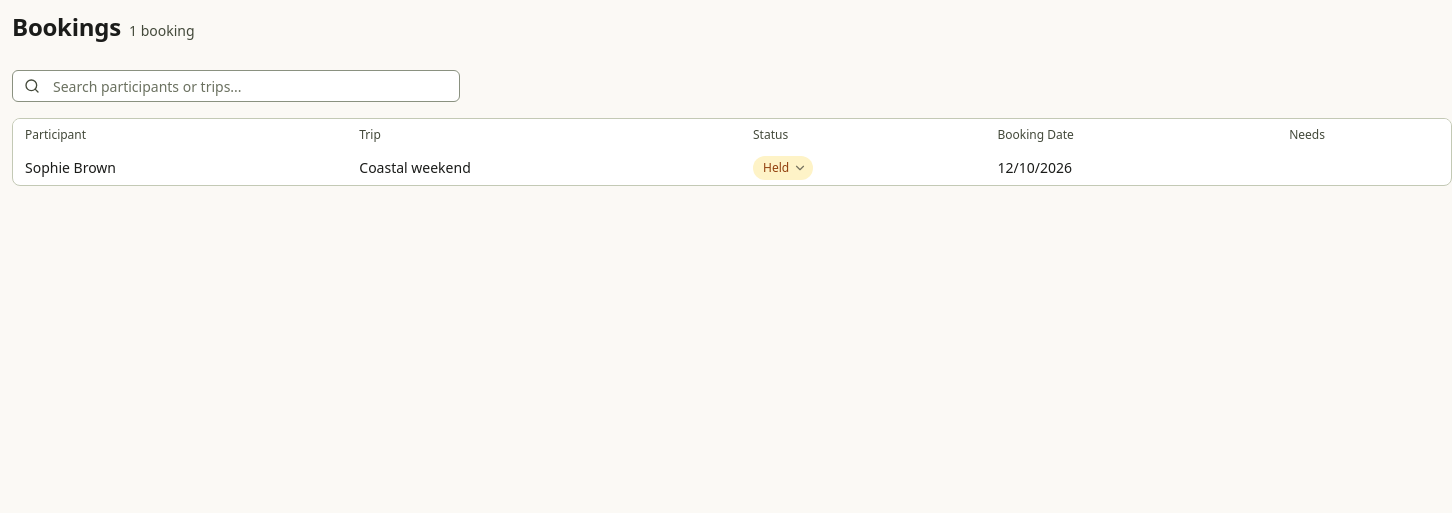
Test: BookingsPage — a refused status change › clears the banner on the next change that succeeds
Click the button "Held" at (783, 168), box [753,156,813,180]
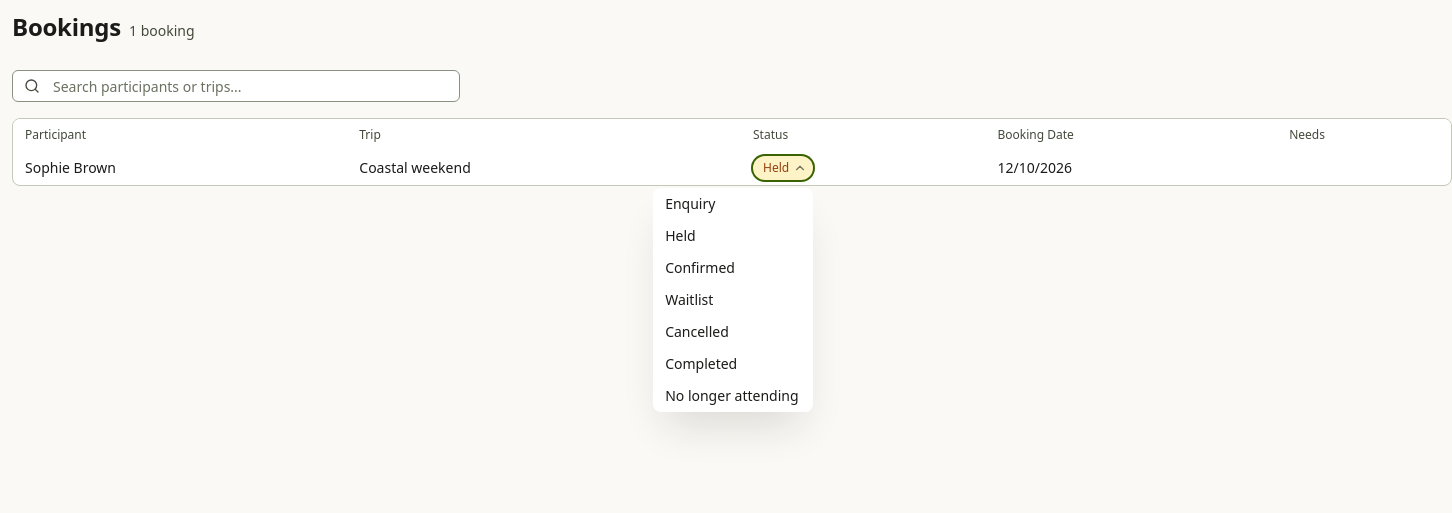
Click the option "Confirmed" at (700, 268), box [665,258,735,277]
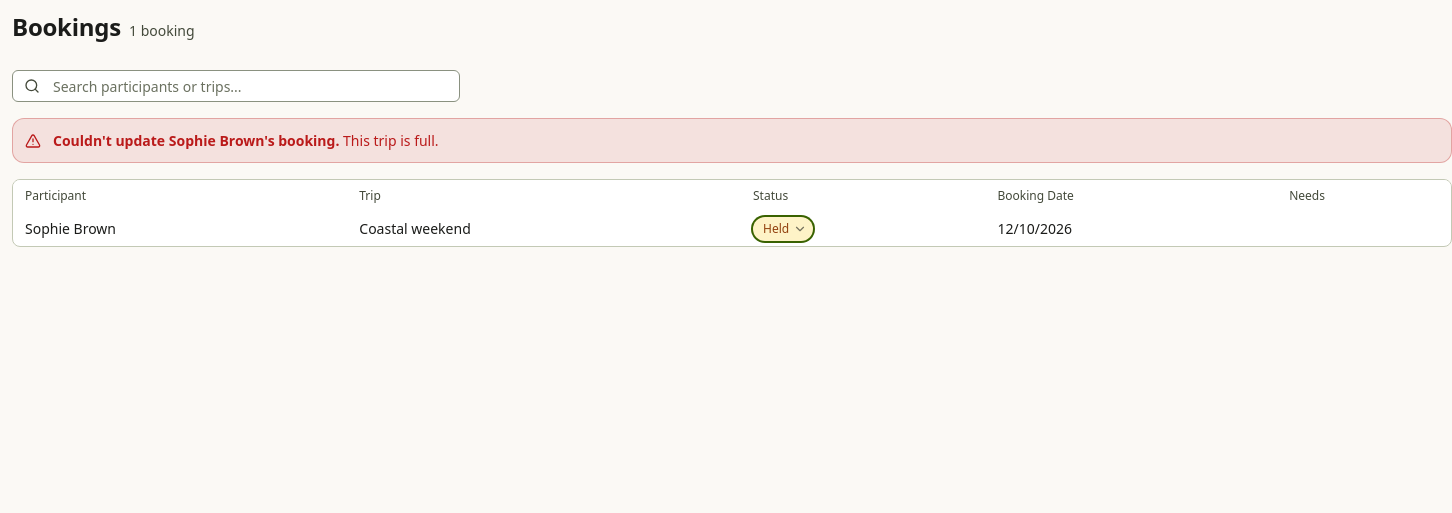
Expected: the text "Couldn't update Sophie Brown's booking. This trip is full." is shown, [53,131,439,150]
Click the button "Held" at (783, 229), box [753,217,813,241]
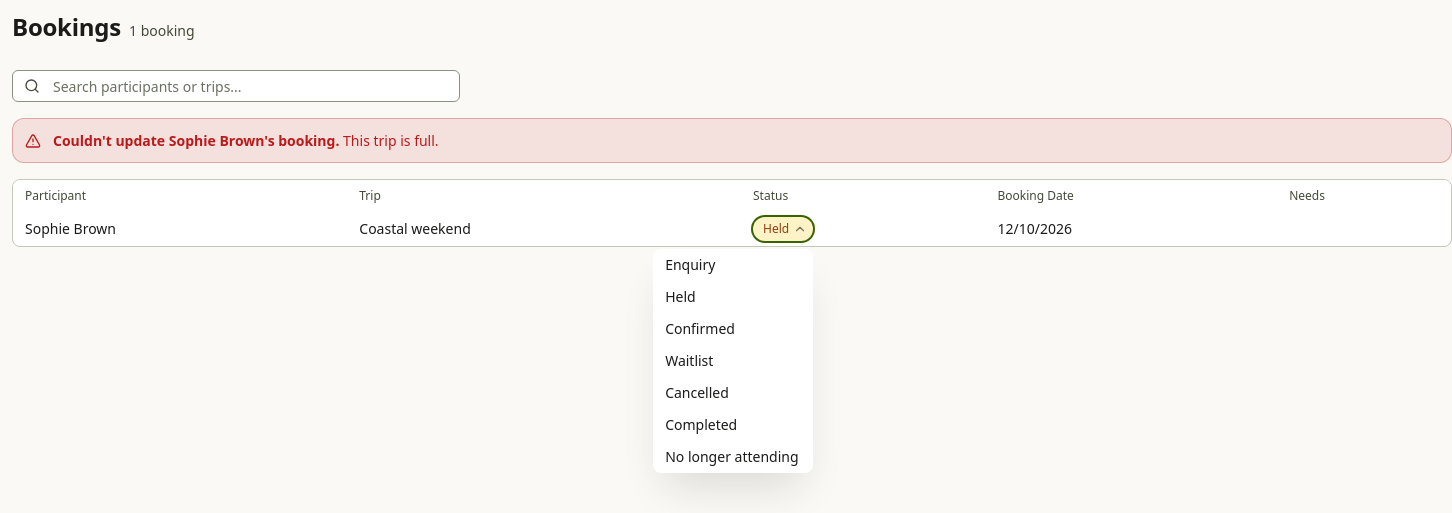
Click the option "Waitlist" at (689, 361), box [665,351,713,370]
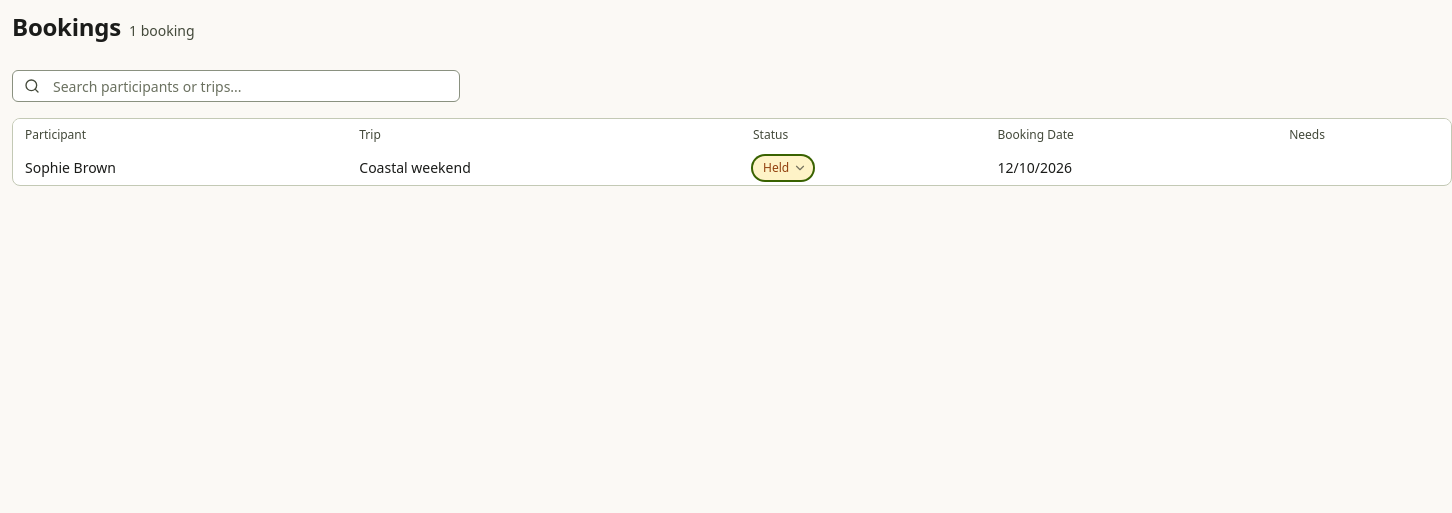
Expected: the text "This trip is full." is gone
